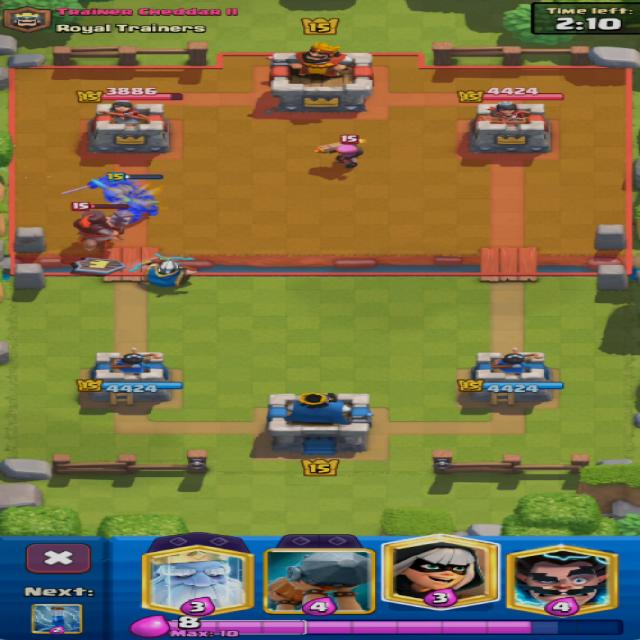Enemy-DarkPrince: (72, 209, 135, 253)
Enemy-Firecracker: (321, 143, 362, 167)
Enemy-KingTower: (270, 43, 372, 112)
Enemy-PrincessTower: (87, 100, 171, 154), (470, 100, 550, 154)
Player-KingTower: (266, 392, 371, 455)
Player-MagicArcher: (131, 254, 196, 286)
Player-PEKKA: (61, 173, 156, 222)
Player-PrincessTower: (458, 346, 562, 406), (77, 348, 182, 404)
